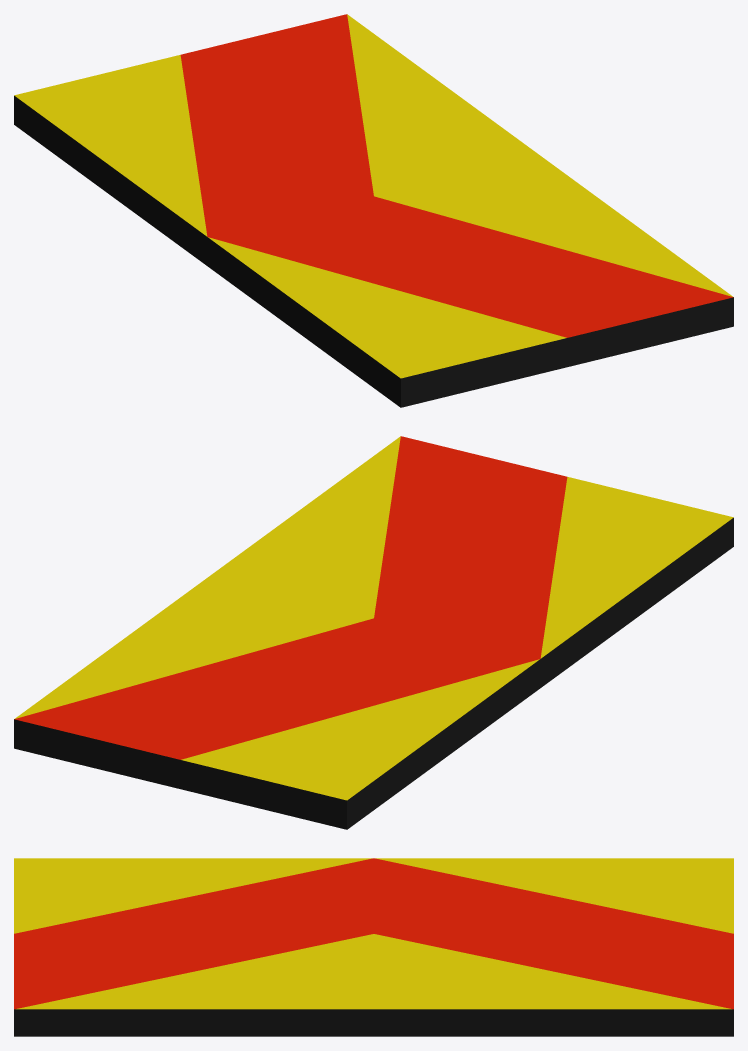
The model's file is Boost.fbx.
3 views of the same model, one above another, from view 1: azimuth 30°, elevation 25°; view 2: azimuth 150°, elevation 25°; view 3: azimuth 270°, elevation 25° (orthographic). The views are drawn at different scales.
Visible parts, largest first — view 1: Cube; view 2: Cube; view 3: Cube.
Boxes of the visible parts, bbox=[...] form: Cube: bbox=[14, 14, 733, 407]; Cube: bbox=[14, 436, 733, 829]; Cube: bbox=[14, 858, 733, 1036].
Bounding box in the file's own units: 200 × 16.82 × 402.
